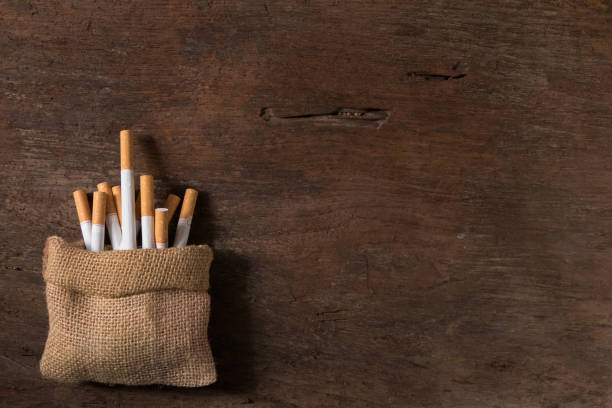cigarette: (119, 129, 137, 250), (96, 180, 121, 250), (173, 186, 199, 247), (139, 174, 156, 250), (72, 189, 92, 249), (91, 190, 108, 251), (155, 206, 169, 249), (111, 184, 121, 229), (164, 193, 181, 219)
